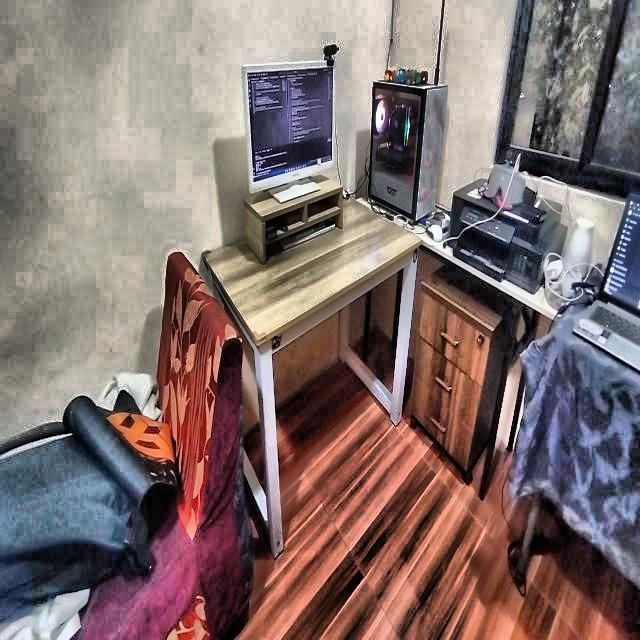mesa: (225, 184, 422, 511)
